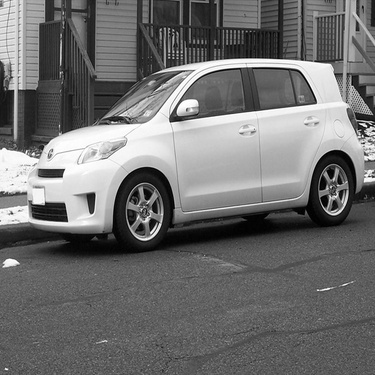car: (21, 55, 365, 253)
